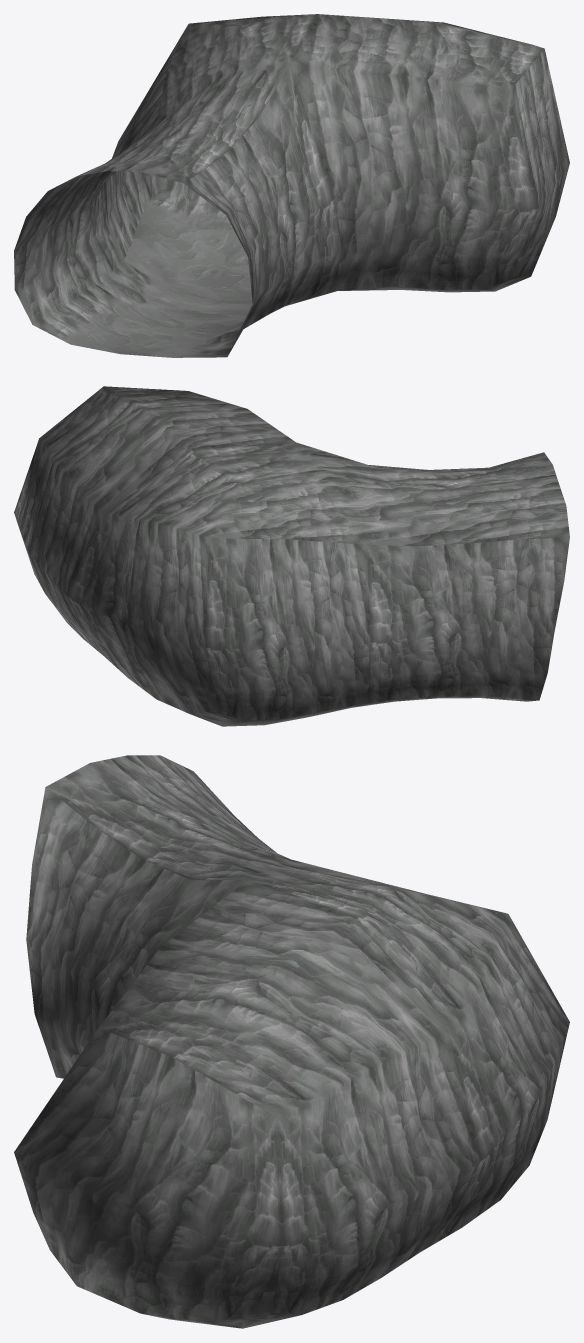
The model's file is SWORDLIGHT20_PS-AREA03-05TRANS_02.fbx.
3 renders of one model, top to bottom at view 1: azimuth 30°, elevation 25°; view 2: azimuth 150°, elevation 25°; view 3: azimuth 270°, elevation 25°, orthographic. The views are drawn at different scales.
Parts seen in each view (by area): view 1: SWORDLIGHT20_PS-AREA03-05TRANS_02; view 2: SWORDLIGHT20_PS-AREA03-05TRANS_02; view 3: SWORDLIGHT20_PS-AREA03-05TRANS_02.
Boxes of the visible parts, <box> form: SWORDLIGHT20_PS-AREA03-05TRANS_02: <box>14,14,569,357</box>; SWORDLIGHT20_PS-AREA03-05TRANS_02: <box>14,386,569,726</box>; SWORDLIGHT20_PS-AREA03-05TRANS_02: <box>14,755,569,1328</box>.
Size of the model in its own units: 171952 by 73465 by 110483.
4 materials, 4 textured.
